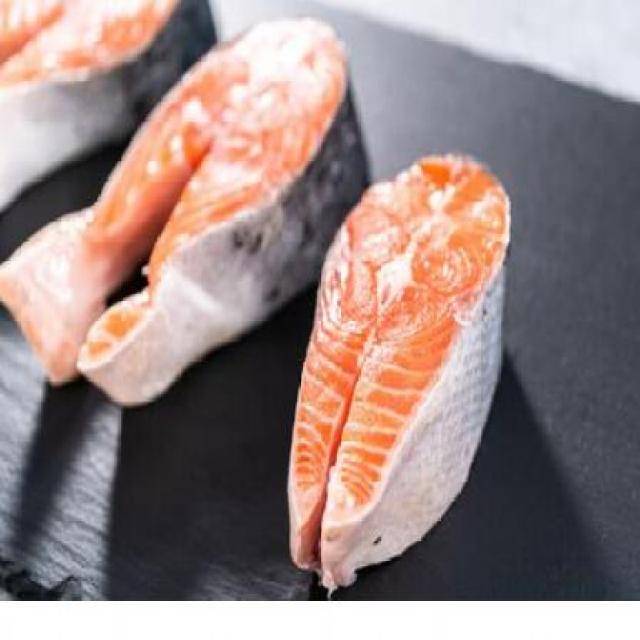salmon: (1, 11, 392, 404), (271, 134, 522, 576), (2, 1, 242, 218)
